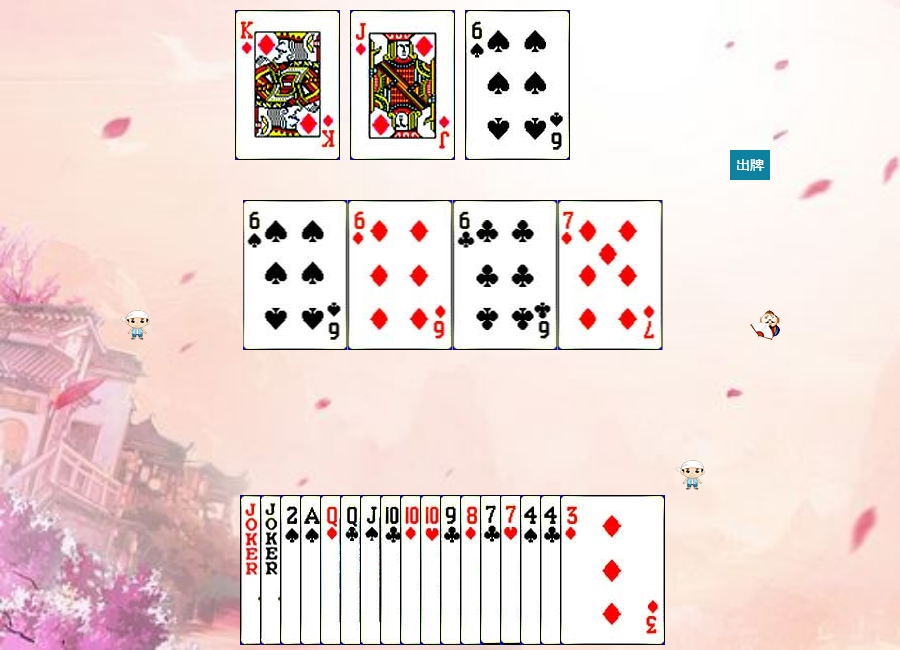10~1: (400, 495, 505, 645)
10~2: (380, 495, 485, 645)
10~3: (420, 495, 525, 645)
11~1: (350, 10, 455, 160)
11~4: (360, 495, 465, 645)
12~1: (320, 495, 425, 645)
12~2: (340, 495, 445, 645)
13~1: (235, 10, 340, 160)
14~4: (300, 495, 405, 645)
15~4: (280, 495, 385, 645)
17~3: (260, 495, 365, 645)
18~4: (240, 495, 345, 645)
3~1: (560, 495, 665, 645)
4~2: (540, 495, 645, 645)
4~4: (520, 495, 625, 645)
6~1: (348, 200, 453, 350)
6~2: (453, 200, 558, 350)
6~4: (465, 10, 570, 160), (243, 200, 348, 350)
7~1: (558, 200, 663, 350)
7~2: (480, 495, 585, 645)
7~3: (500, 495, 605, 645)
8~1: (460, 495, 565, 645)
9~2: (440, 495, 545, 645)
